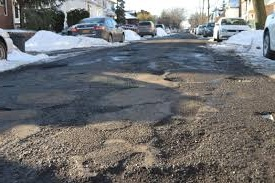pothole: (91, 165, 229, 183), (154, 131, 207, 165), (101, 64, 178, 87), (93, 87, 168, 106), (104, 100, 163, 121), (164, 98, 222, 117), (18, 89, 74, 104), (153, 114, 187, 129), (10, 121, 38, 138), (122, 150, 147, 163), (254, 107, 273, 122), (225, 75, 256, 84)
